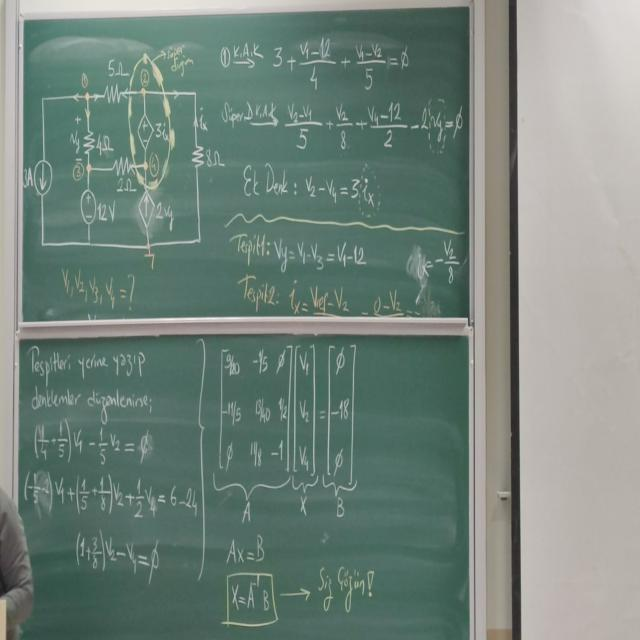image: (22, 39, 227, 274)
math: (217, 342, 358, 493), (281, 93, 468, 161), (24, 464, 200, 524), (266, 37, 416, 92), (34, 416, 153, 464), (283, 279, 414, 320), (272, 234, 368, 281), (74, 527, 164, 576), (302, 164, 380, 214), (60, 264, 136, 310), (413, 236, 464, 288), (226, 572, 275, 619), (222, 531, 270, 568)
text: (25, 342, 156, 416), (219, 97, 278, 128), (240, 161, 288, 198), (235, 271, 277, 310), (227, 228, 269, 260)
